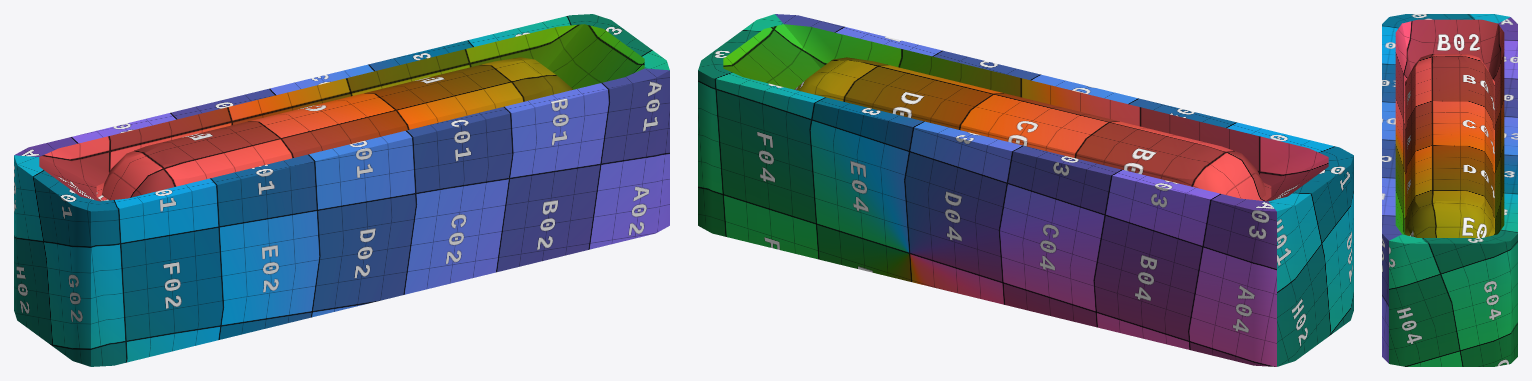
File: CCL_gameasset.fbx
3 views of the same model, side by side, from view 1: azimuth 30°, elevation 25°; view 2: azimuth 150°, elevation 25°; view 3: azimuth 270°, elevation 25° (orthographic). The views are drawn at different scales.
Visible parts, largest first — view 1: CorridorCeilingLight_gameasset; view 2: CorridorCeilingLight_gameasset; view 3: CorridorCeilingLight_gameasset.
Boxes of the visible parts, x1,y1,x2,y2 form: CorridorCeilingLight_gameasset: (14,14,669,366); CorridorCeilingLight_gameasset: (698,14,1353,366); CorridorCeilingLight_gameasset: (1382,14,1517,366).
Size of the model in its own units: 40 by 10 by 10.
